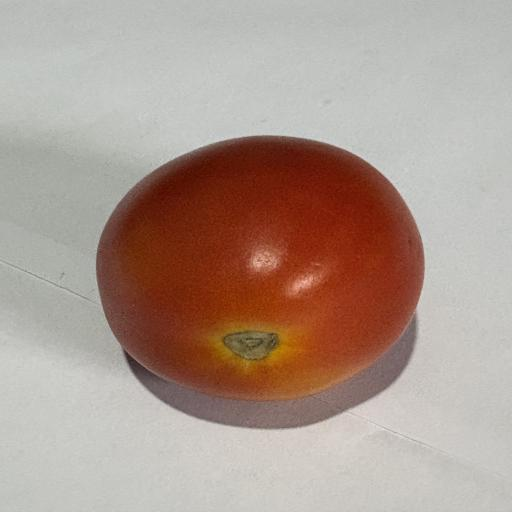ripe: (97, 136, 424, 401)
